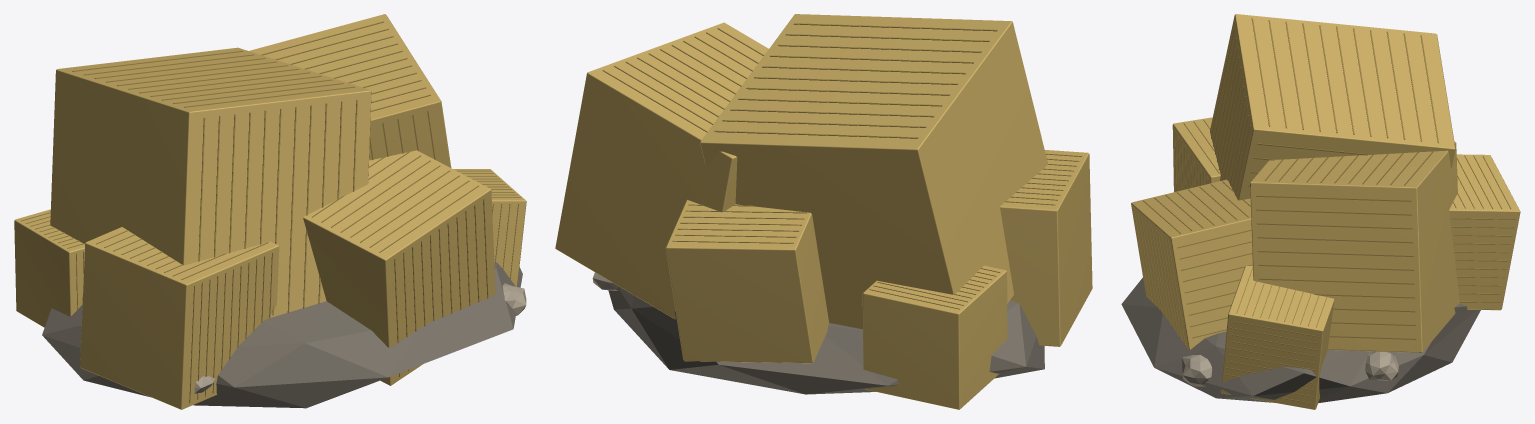
File: PyriteCluster.fbx
3 views of the same model, side by side, from view 1: azimuth 30°, elevation 25°; view 2: azimuth 150°, elevation 25°; view 3: azimuth 270°, elevation 25° (orthographic). The views are drawn at different scales.
Visible parts, largest first — view 1: PyriteCluster_PyriteBrass, PyriteCluster_MineralMatrix, PyriteCluster_PyriteStriations, PyriteCluster_MatrixWeathering; view 2: PyriteCluster_PyriteBrass, PyriteCluster_MineralMatrix, PyriteCluster_PyriteStriations; view 3: PyriteCluster_PyriteBrass, PyriteCluster_PyriteStriations, PyriteCluster_MineralMatrix, PyriteCluster_MatrixWeathering.
Part boxes in pixels (bbox=[...]): PyriteCluster_PyriteBrass: bbox=[14, 14, 526, 409]; PyriteCluster_MineralMatrix: bbox=[42, 262, 522, 408]; PyriteCluster_PyriteStriations: bbox=[21, 21, 520, 403]; PyriteCluster_MatrixWeathering: bbox=[194, 283, 526, 393]; PyriteCluster_PyriteBrass: bbox=[555, 14, 1092, 409]; PyriteCluster_MineralMatrix: bbox=[608, 288, 1044, 394]; PyriteCluster_PyriteStriations: bbox=[602, 23, 1081, 309]; PyriteCluster_PyriteBrass: bbox=[1131, 14, 1520, 409]; PyriteCluster_PyriteStriations: bbox=[1134, 18, 1515, 403]; PyriteCluster_MineralMatrix: bbox=[1121, 277, 1480, 402]; PyriteCluster_MatrixWeathering: bbox=[1182, 351, 1398, 386].
Size of the model in its own units: 1 by 0.7002 by 0.8838.
